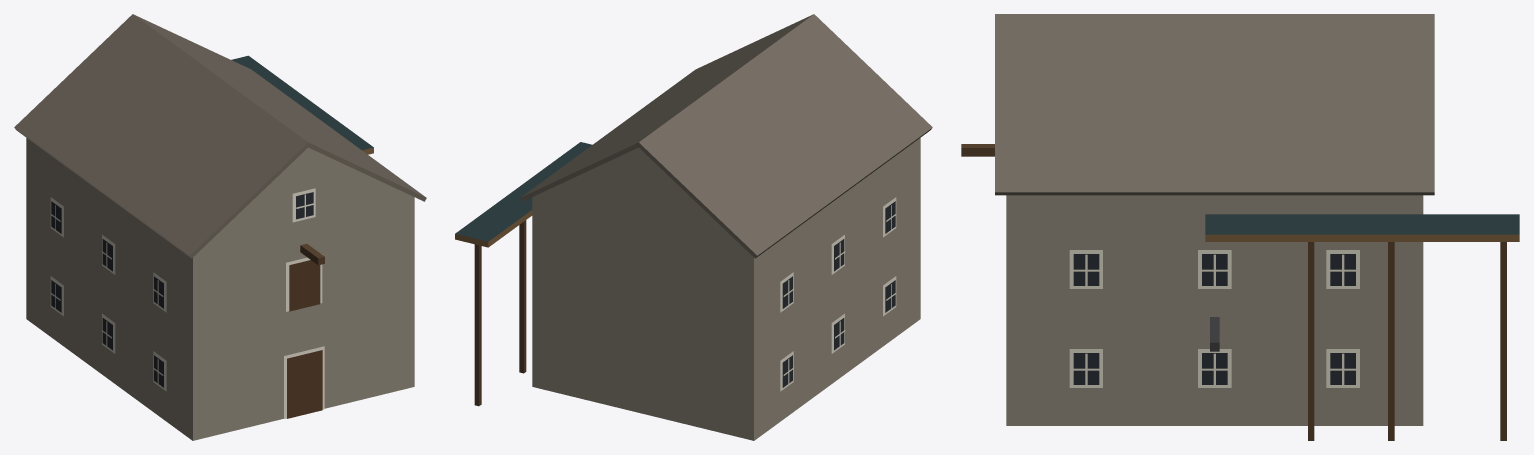
Rendered from grist_mill.glb.
The picture shows the model from 3 angles, left to right: view 1: azimuth 30°, elevation 25°; view 2: azimuth 150°, elevation 25°; view 3: azimuth 270°, elevation 25°; orthographic projection. The views are drawn at different scales.
Visible parts, largest first — view 1: grist_mill; view 2: grist_mill; view 3: grist_mill.
Part boxes in pixels (left/top/right/bottom): grist_mill: left=14, top=14, right=426, bottom=440; grist_mill: left=455, top=14, right=932, bottom=440; grist_mill: left=961, top=14, right=1519, bottom=440.
Size of the model in its own units: 12.25 by 11.84 by 17.4.
